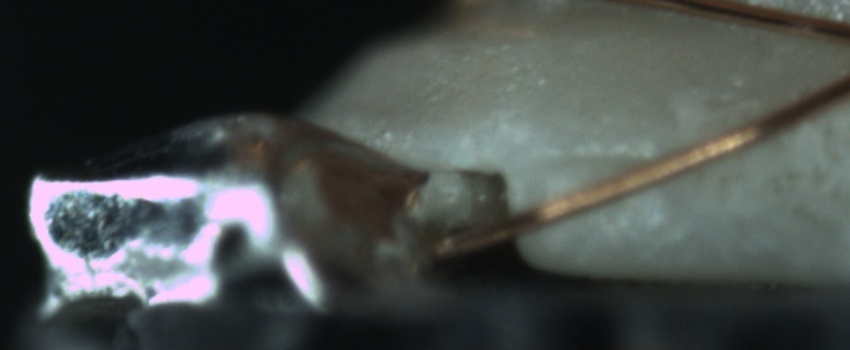DL: (536, 125, 666, 188)
